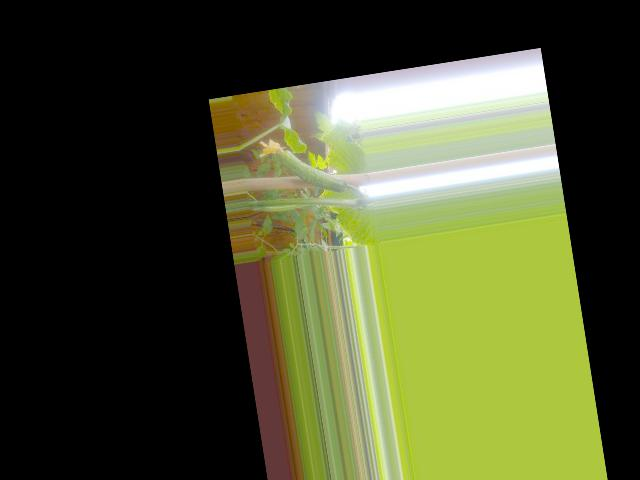cucumber: (256, 127, 347, 203)
